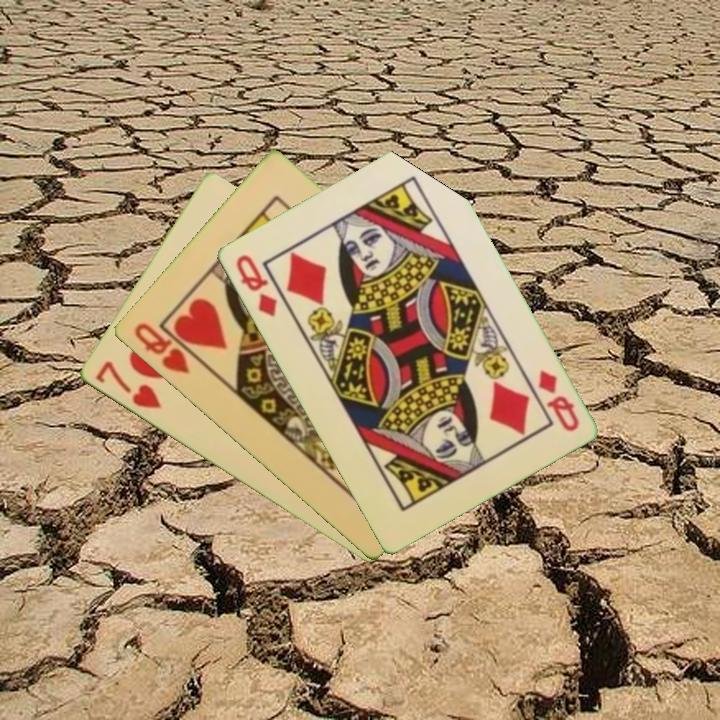7h: (91, 357, 164, 412)
Qd: (231, 250, 280, 320), (533, 366, 582, 435)
Qh: (130, 319, 192, 377)
